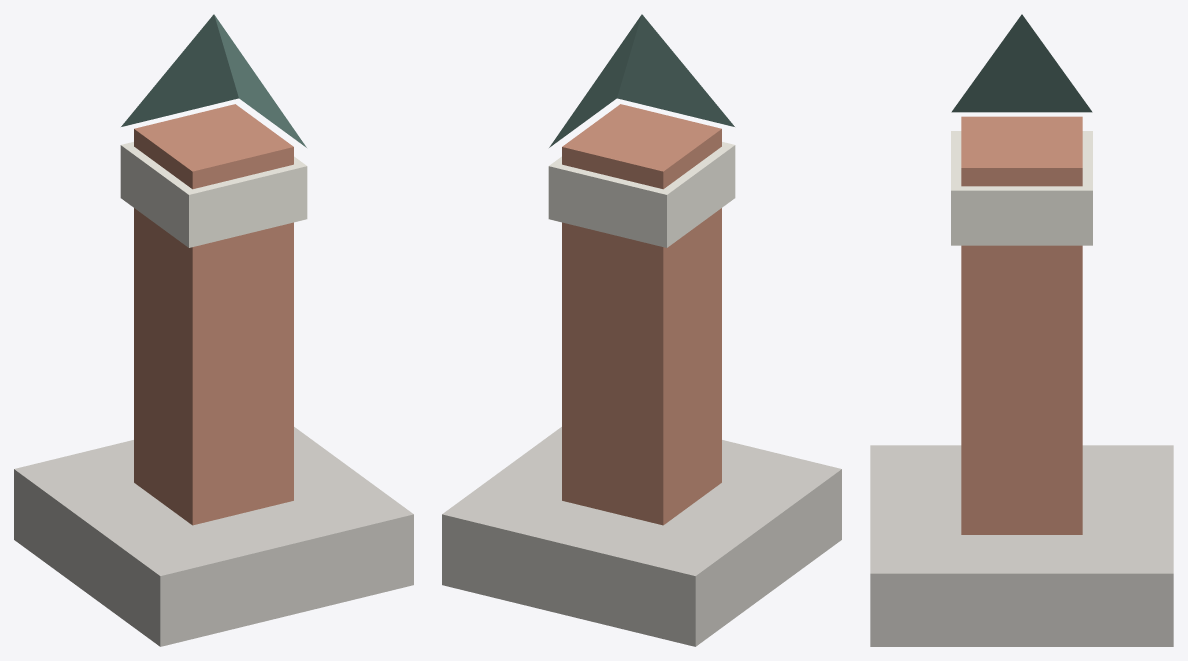
The model's file is tower.glb.
The picture shows the model from 3 angles, left to right: view 1: azimuth 30°, elevation 25°; view 2: azimuth 150°, elevation 25°; view 3: azimuth 270°, elevation 25°; orthographic projection. The views are drawn at different scales.
Visible parts, largest first — view 1: tower; view 2: tower; view 3: tower.
Boxes of the visible parts, x1=… form: tower: x1=14, y1=14, x2=413, y2=646; tower: x1=442, y1=14, x2=841, y2=646; tower: x1=870, y1=14, x2=1173, y2=646.
Bounding box in the file's own units: 30 × 62 × 30.
